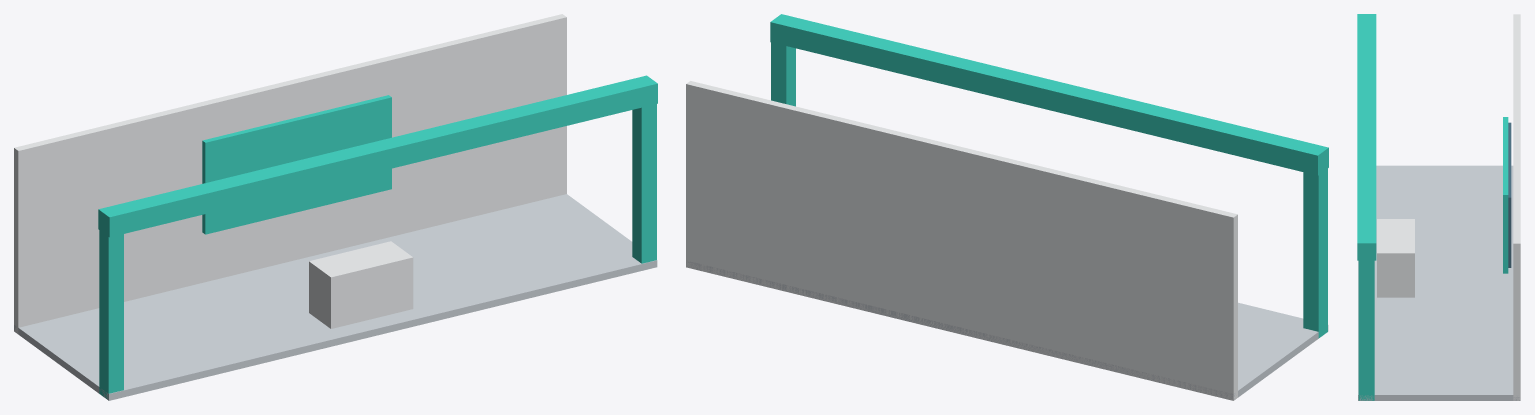
3 views of the same model, side by side, from view 1: azimuth 30°, elevation 25°; view 2: azimuth 150°, elevation 25°; view 3: azimuth 270°, elevation 25° (orthographic). The views are drawn at different scales.
Parts seen in each view (by area): view 1: Exhibition Booth Concept; view 2: Exhibition Booth Concept; view 3: Exhibition Booth Concept.
Part boxes in pixels (left/top/right/bottom): Exhibition Booth Concept: left=14, top=14, right=657, bottom=400; Exhibition Booth Concept: left=686, top=14, right=1328, bottom=400; Exhibition Booth Concept: left=1357, top=14, right=1520, bottom=400.
Bounding box in the file's own units: 10 × 3.2 × 3.01.
